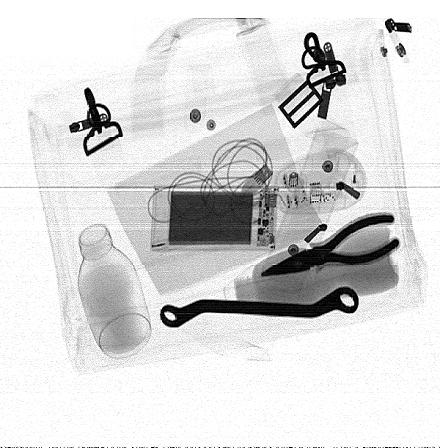Pliers: (260, 214, 402, 278)
Powerbank: (148, 186, 279, 251)
Wrench: (160, 283, 360, 328)
